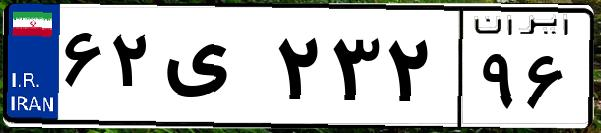2: (270, 28, 330, 110), (385, 28, 445, 110), (110, 28, 158, 98)
3: (330, 28, 385, 110)
6: (57, 26, 110, 100), (525, 38, 570, 115)
9: (475, 38, 525, 113)
ی: (158, 20, 270, 120)
